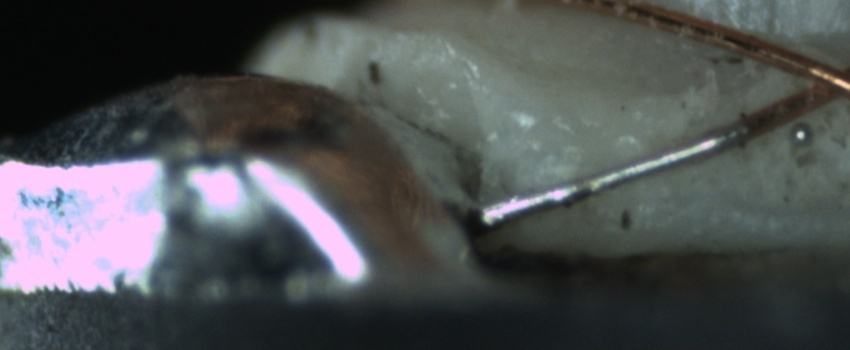CL: (771, 48, 849, 121)
TS: (475, 120, 736, 222)
